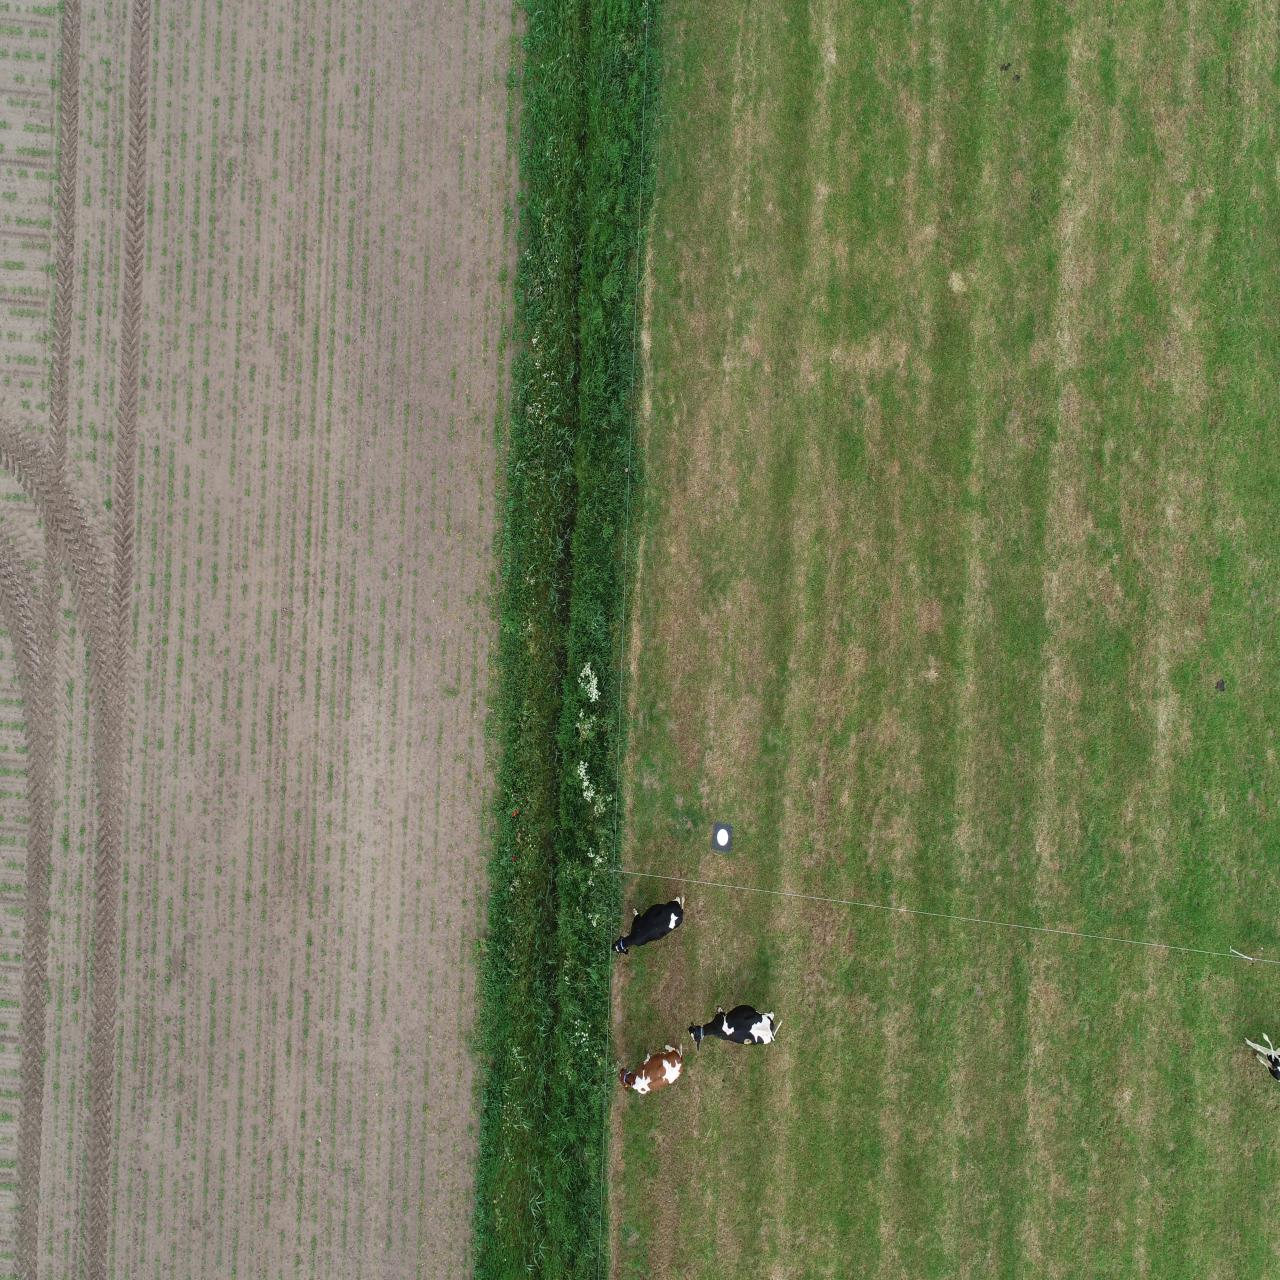cow: (604, 892, 689, 960), (686, 1002, 789, 1057), (617, 1042, 686, 1097)
